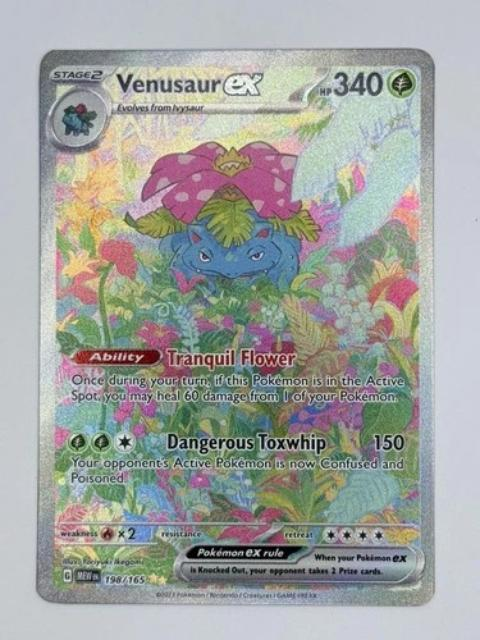Card: (31, 41, 440, 610)
Name: (110, 67, 266, 100)
